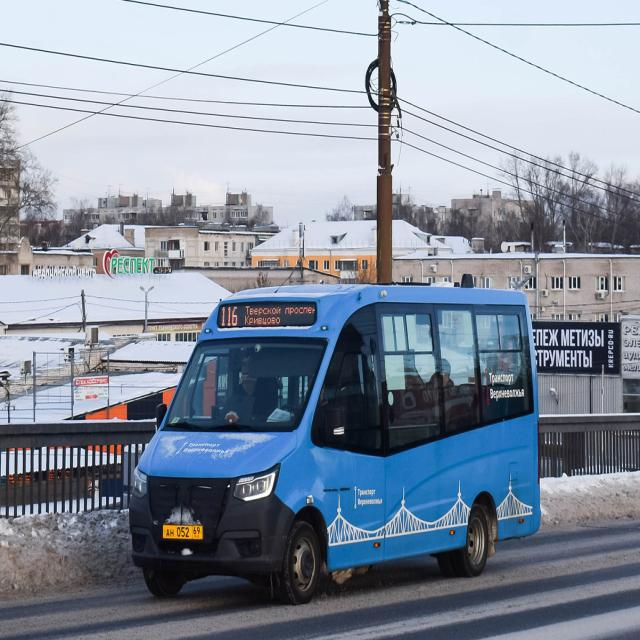number-of-bus: (221, 305, 242, 329)
